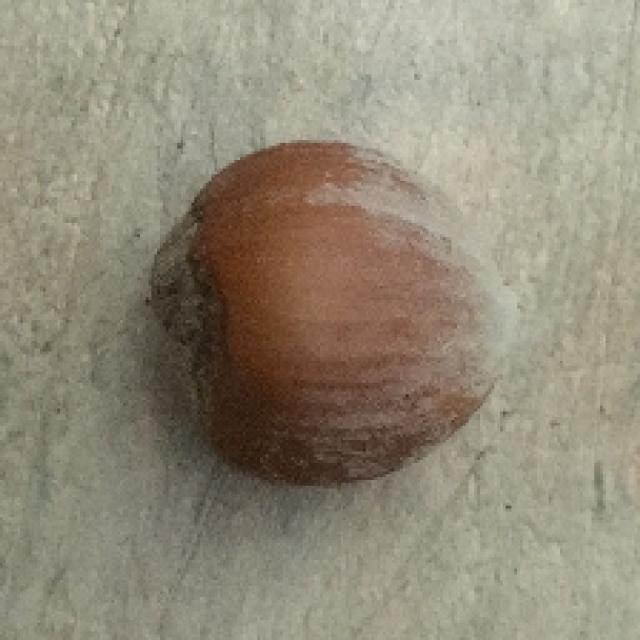QualityHazelnut: (143, 138, 521, 487)
